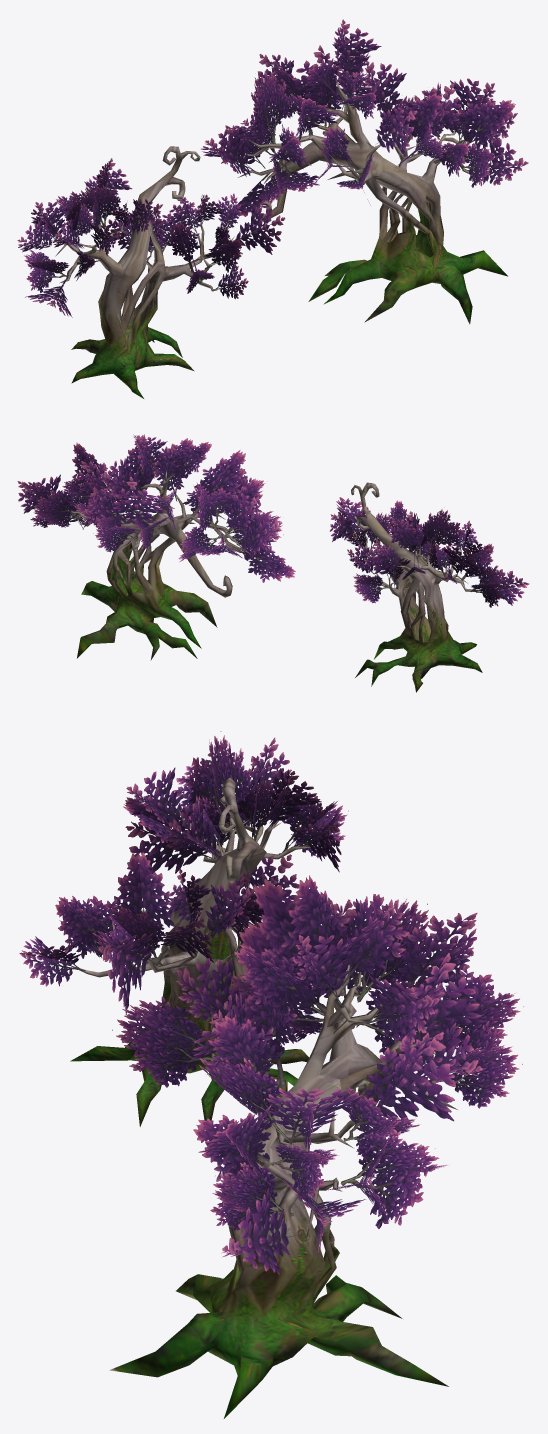
File: shu_001.FBX
3 renders of one model, top to bottom at view 1: azimuth 30°, elevation 25°; view 2: azimuth 150°, elevation 25°; view 3: azimuth 270°, elevation 25°, orthographic. The views are drawn at different scales.
Visible parts, largest first — view 1: MD_zhi_wu_01_b, MD_zhi_wu_01_a, MD_zhi_wu_02_b, MD_zhi_wu_02_a; view 2: MD_zhi_wu_01_b, MD_zhi_wu_01_a, MD_zhi_wu_02_b, MD_zhi_wu_02_a; view 3: MD_zhi_wu_01_b, MD_zhi_wu_01_a, MD_zhi_wu_02_b, MD_zhi_wu_02_a.
Boxes of the visible parts, box(x1,y1,x2,y2) form: MD_zhi_wu_01_b: box(201, 19, 528, 222); MD_zhi_wu_01_a: box(237, 80, 507, 324); MD_zhi_wu_02_b: box(17, 158, 285, 317); MD_zhi_wu_02_a: box(51, 146, 234, 398); MD_zhi_wu_01_b: box(17, 434, 295, 582); MD_zhi_wu_01_a: box(65, 471, 251, 660); MD_zhi_wu_02_b: box(329, 497, 529, 607); MD_zhi_wu_02_a: box(351, 482, 482, 692); MD_zhi_wu_01_b: box(112, 875, 523, 1275); MD_zhi_wu_01_a: box(109, 962, 457, 1418); MD_zhi_wu_02_b: box(19, 731, 348, 1014); MD_zhi_wu_02_a: box(70, 777, 314, 1126).
Size of the model in its own units: 1757 by 822 by 864.
Materials: 2 (2 with a texture image).
